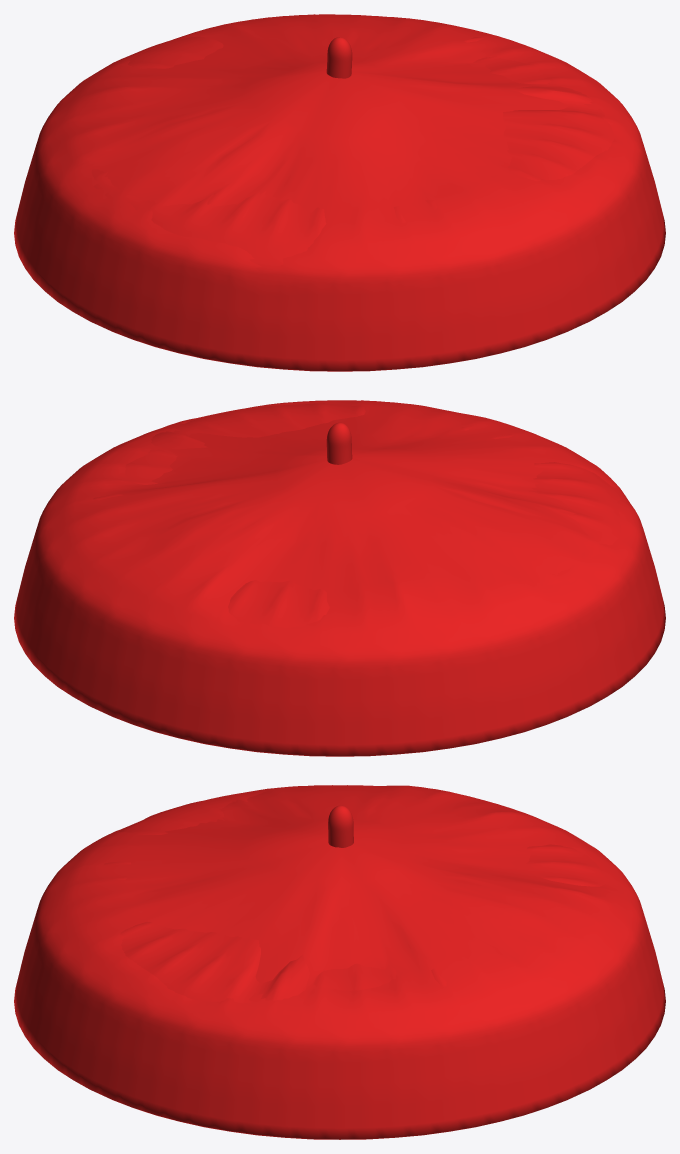
The model's file is red Cap.fbx.
3 renders of one model, top to bottom at view 1: azimuth 30°, elevation 25°; view 2: azimuth 150°, elevation 25°; view 3: azimuth 270°, elevation 25°, orthographic.
Visible parts, largest first — view 1: cap; view 2: cap; view 3: cap.
Part boxes in pixels (bbox=[...]): cap: bbox=[14, 14, 665, 371]; cap: bbox=[14, 400, 665, 756]; cap: bbox=[14, 785, 665, 1139].
Size of the model in its own units: 341 by 114 by 341.
